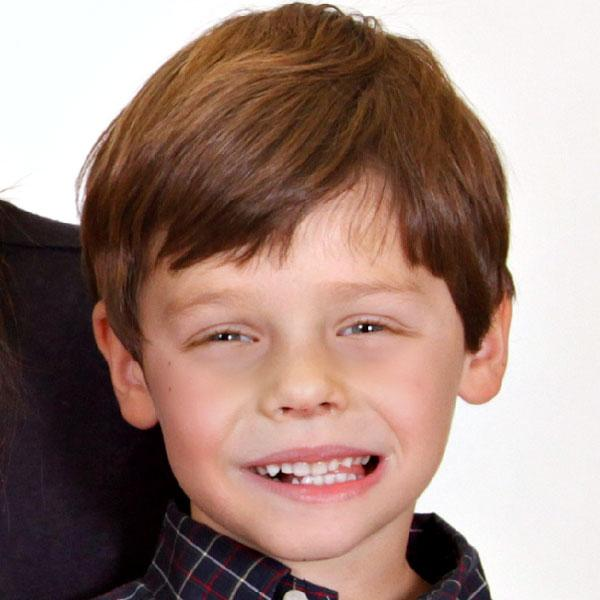Eyes: (176, 308, 270, 363), (328, 300, 416, 352)
